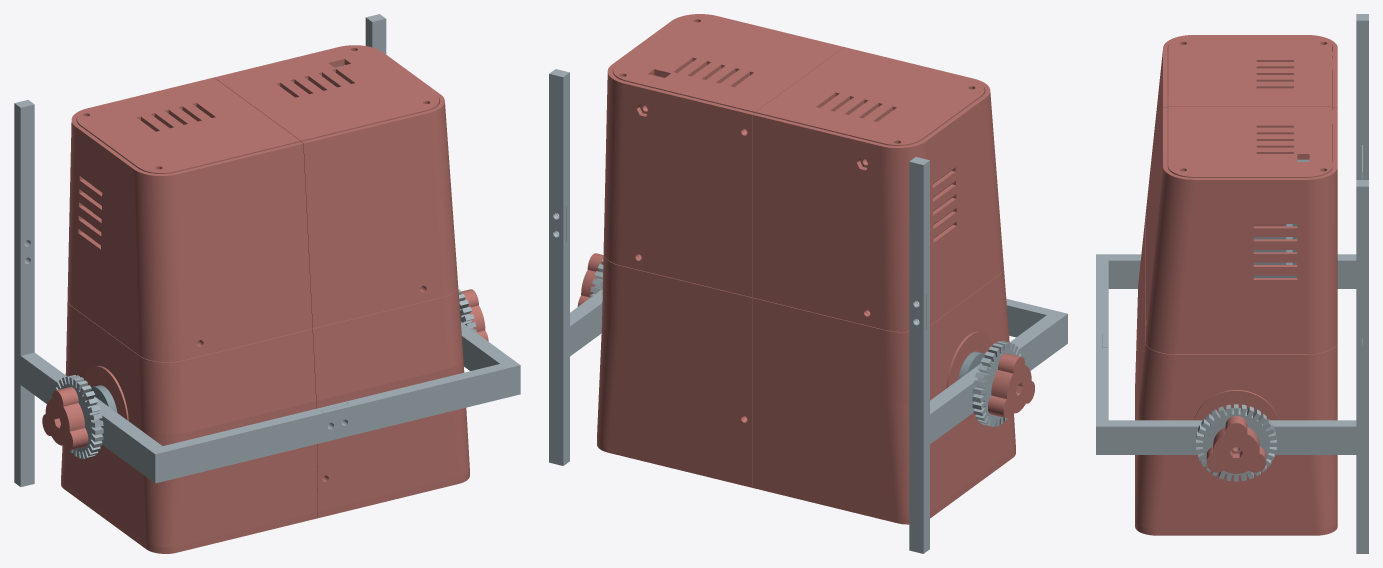
Rendered from assembly.glb.
3 views of the same model, side by side, from view 1: azimuth 30°, elevation 25°; view 2: azimuth 150°, elevation 25°; view 3: azimuth 270°, elevation 25° (orthographic). The views are drawn at different scales.
Visible parts, largest first — view 1: 02_shell_rear_left, 01_shell_front_left, 02_shell_rear_right, 01_shell_front_right, 09_yoke_left, 05_door_left, 06_door_right, 09_yoke_right, 10_yoke_rear_foot_left, knob_left, 03_bezel_left, gear_left (+2 smaller); view 2: 02_shell_rear_left, 01_shell_front_left, 02_shell_rear_right, 01_shell_front_right, 05_door_left, 06_door_right, 09_yoke_left, 09_yoke_right, 10_yoke_rear_foot_left, 10_yoke_rear_foot_right, knob_left, 03_bezel_left (+2 smaller); view 3: 02_shell_rear_right, 01_shell_front_right, 06_door_right, 05_door_left, 09_yoke_right, 09_yoke_left, 02_shell_rear_left, gear_right, knob_right, 10_yoke_rear_foot_left, 10_yoke_rear_foot_right, 03_bezel_right (+1 smaller).
Part boxes in pixels (x1,y1,x2,y2): 02_shell_rear_left: (67,77,312,362); 01_shell_front_left: (61,301,326,547); 02_shell_rear_right: (213,45,458,328); 01_shell_front_right: (312,285,469,511); 09_yoke_left: (14,232,348,486); 05_door_left: (77,79,300,173); 06_door_right: (216,46,439,141); 09_yoke_right: (321,321,520,442); 10_yoke_rear_foot_left: (14,100,34,270); knob_left: (42,387,88,450); 03_bezel_left: (61,479,317,553); gear_left: (55,375,103,458); 02_shell_rear_left: (743,47,1003,331); 01_shell_front_left: (743,269,1015,517); 02_shell_rear_right: (603,14,844,297); 01_shell_front_right: (597,254,752,480); 05_door_left: (755,48,984,145); 06_door_right: (613,15,841,112); 09_yoke_left: (909,293,1067,553); 09_yoke_right: (549,205,602,465); 10_yoke_rear_foot_left: (909,157,929,329); 10_yoke_rear_foot_right: (549,69,569,241); knob_left: (988,353,1034,418); 03_bezel_left: (752,447,1015,524); 02_shell_rear_right: (1145,107,1337,354); 01_shell_front_right: (1135,281,1337,529); 06_door_right: (1168,107,1332,177); 05_door_left: (1168,36,1332,106); 09_yoke_right: (1096,311,1368,553); 09_yoke_left: (1096,145,1368,347); 02_shell_rear_left: (1145,35,1337,276); gear_right: (1196,404,1276,481); knob_right: (1206,416,1266,473); 10_yoke_rear_foot_left: (1356,14,1368,178); 10_yoke_rear_foot_right: (1356,180,1368,344); 03_bezel_right: (1135,521,1337,535).
Bounding box in the file's own units: 0.298 × 0.26 × 0.175.
